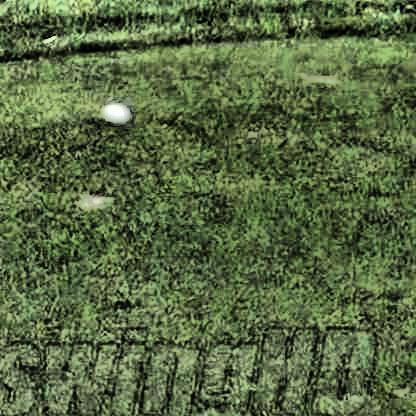golfball: (99, 99, 129, 125)
